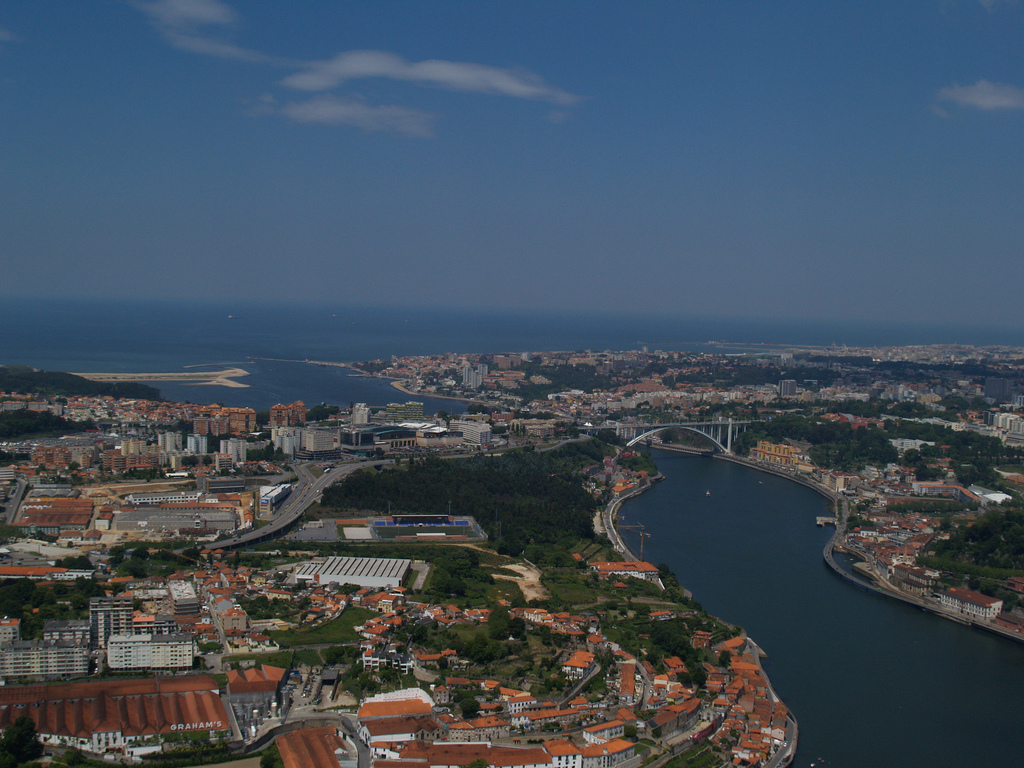arrabida: (584, 413, 754, 458)
